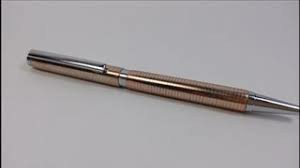pen: (27, 46, 300, 125)
